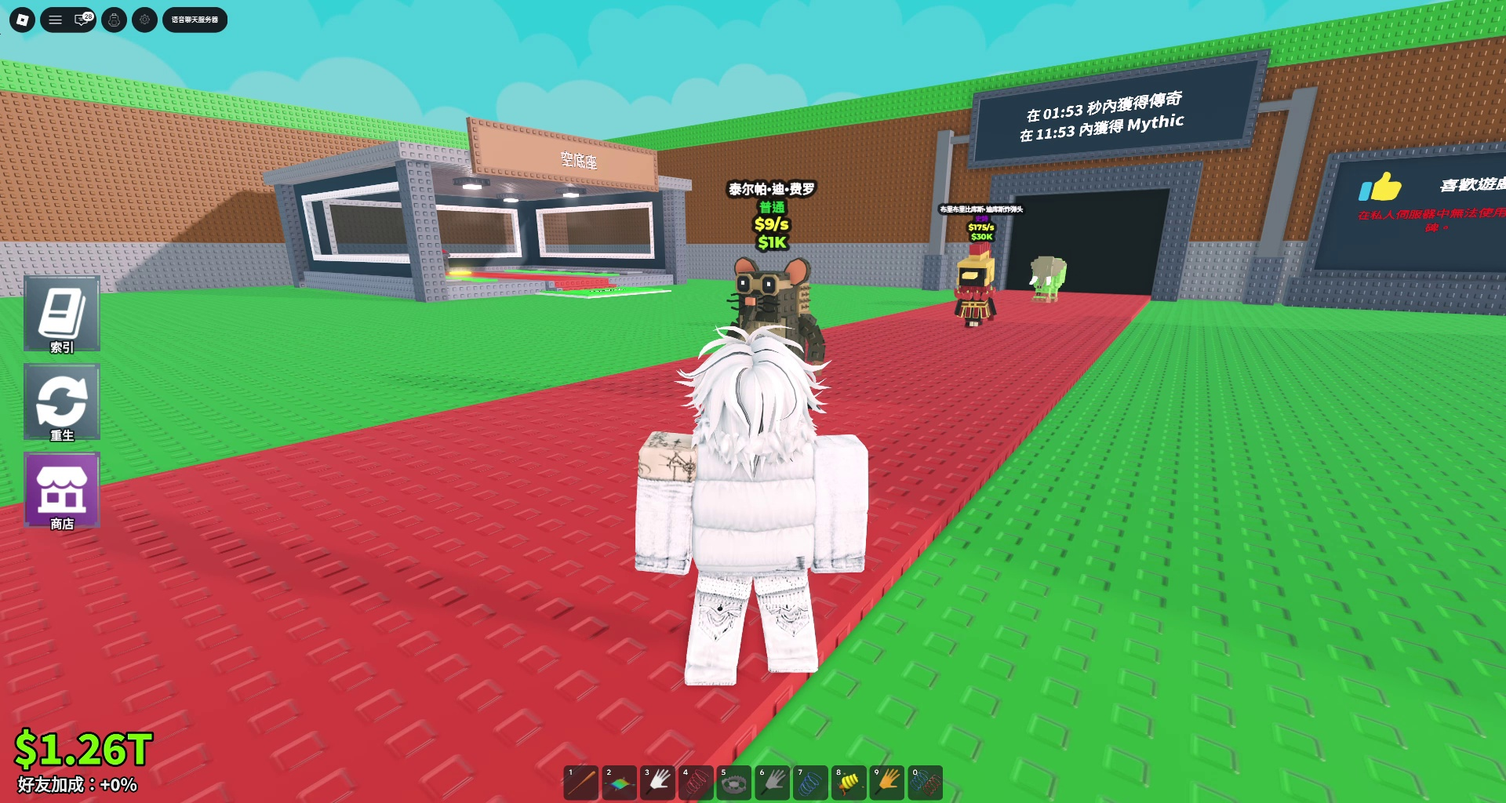price_tag: (741, 193, 792, 228), (966, 214, 995, 236)
